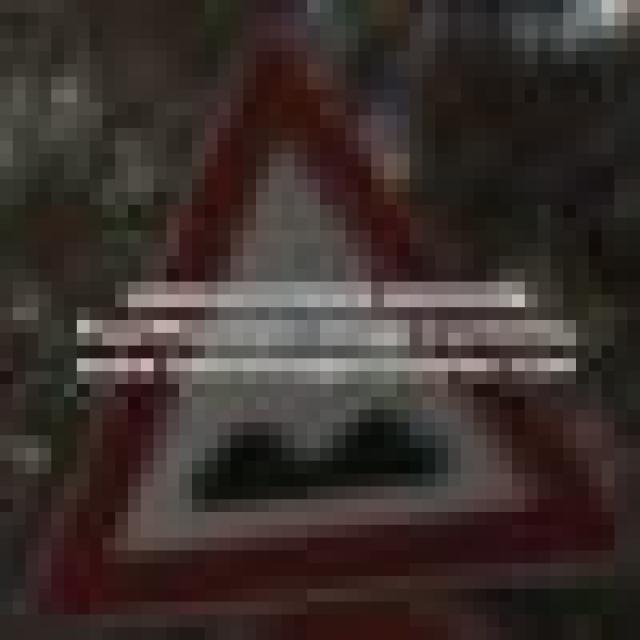horn_prohibited: (26, 38, 627, 589)
